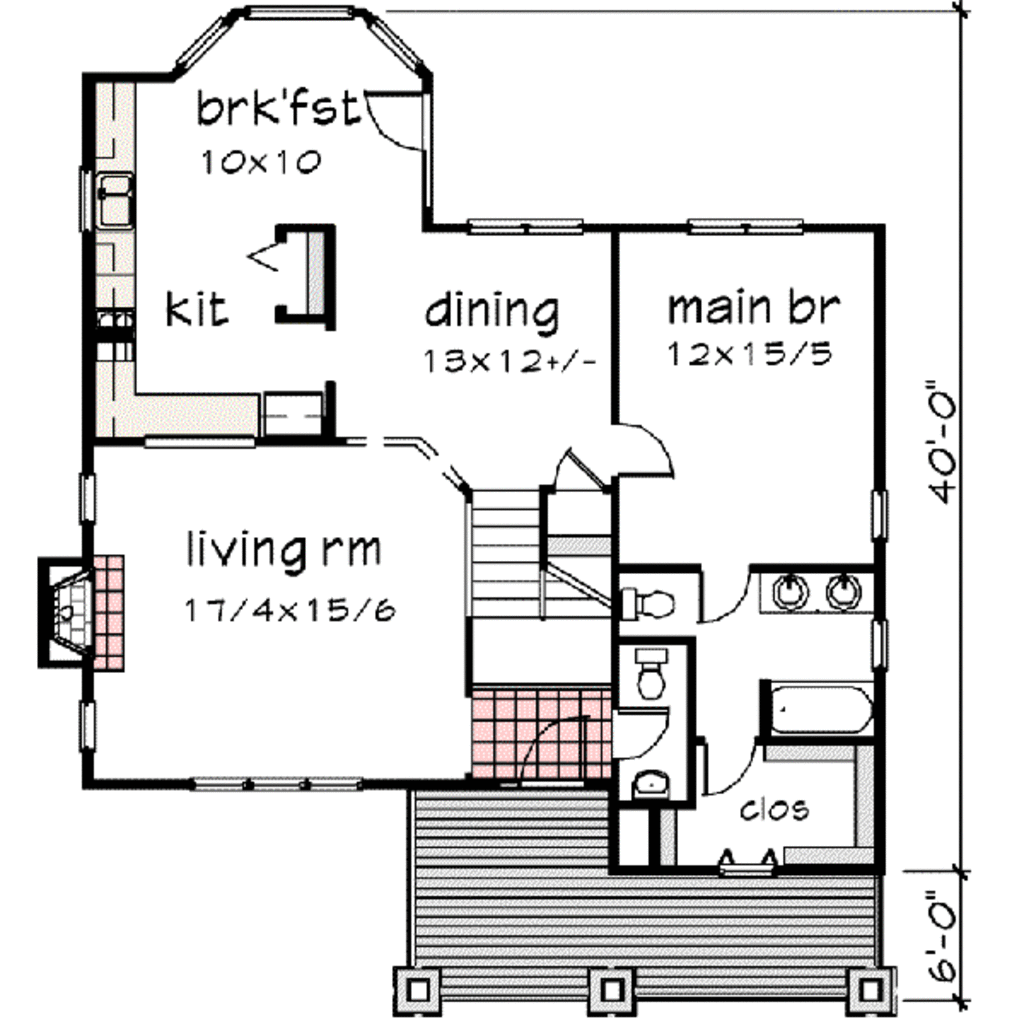door: (514, 714, 591, 788), (363, 88, 428, 161), (702, 736, 763, 799), (613, 417, 675, 474), (698, 567, 759, 621), (611, 705, 672, 758)
large_sink: (614, 575, 683, 638), (616, 641, 678, 710)
small_sink: (759, 566, 878, 621), (630, 767, 673, 803)
stairs: (470, 482, 602, 630)
twin_sink: (81, 153, 148, 244)
window: (180, 1, 386, 50), (194, 769, 348, 796), (464, 210, 584, 239), (686, 211, 808, 235), (75, 475, 105, 527), (81, 697, 103, 755), (869, 494, 895, 542), (869, 619, 889, 675)
